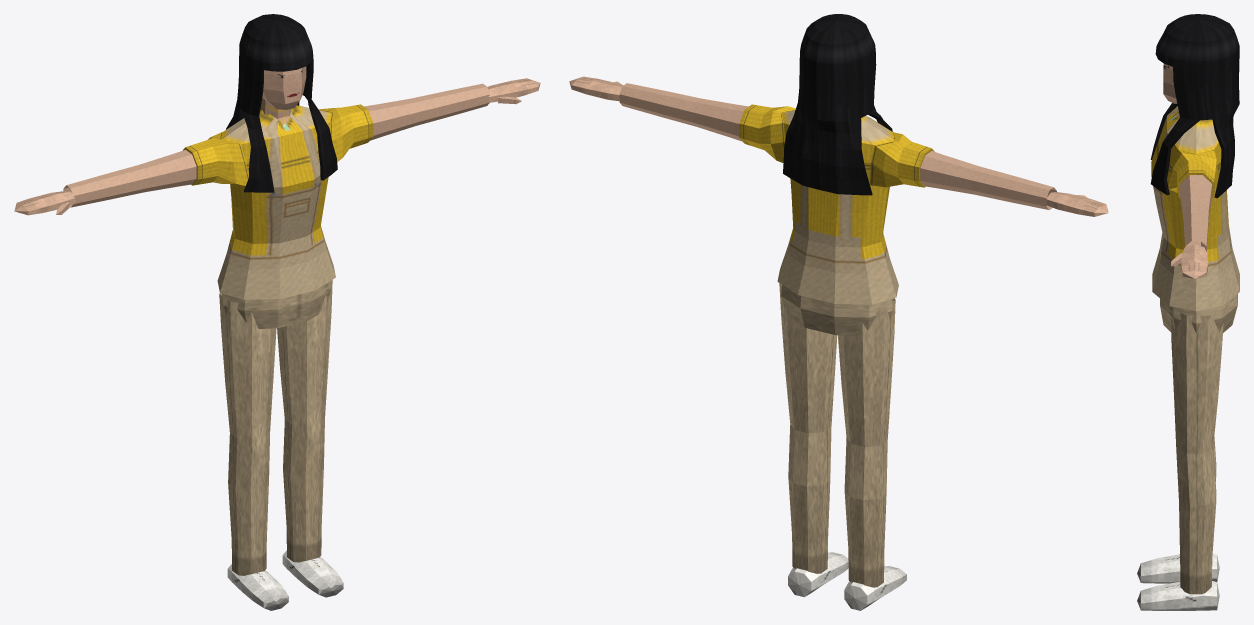
The model's file is Mila_fuer_Mixamo.fbx.
3 views of the same model, side by side, from view 1: azimuth 30°, elevation 25°; view 2: azimuth 150°, elevation 25°; view 3: azimuth 270°, elevation 25° (orthographic). The views are drawn at different scales.
Visible parts, largest first — view 1: Mila_Mesh; view 2: Mila_Mesh; view 3: Mila_Mesh.
Boxes of the visible parts, left/top/right/bottom form: Mila_Mesh: left=14, top=14, right=540, bottom=610; Mila_Mesh: left=569, top=14, right=1108, bottom=610; Mila_Mesh: left=1137, top=14, right=1239, bottom=610.
Bounding box in the file's own units: 1.63 × 1.66 × 0.2697.
Materials: 1 (1 with a texture image).
